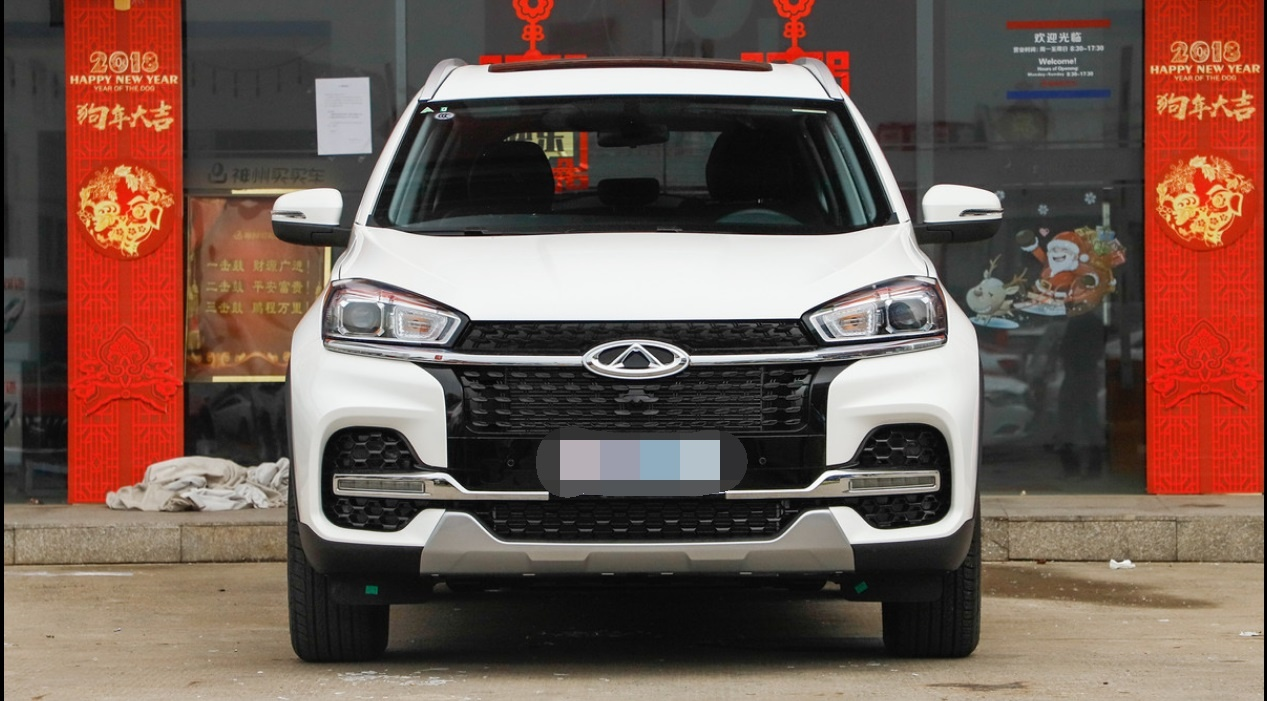SUV: (239, 49, 1012, 631)
